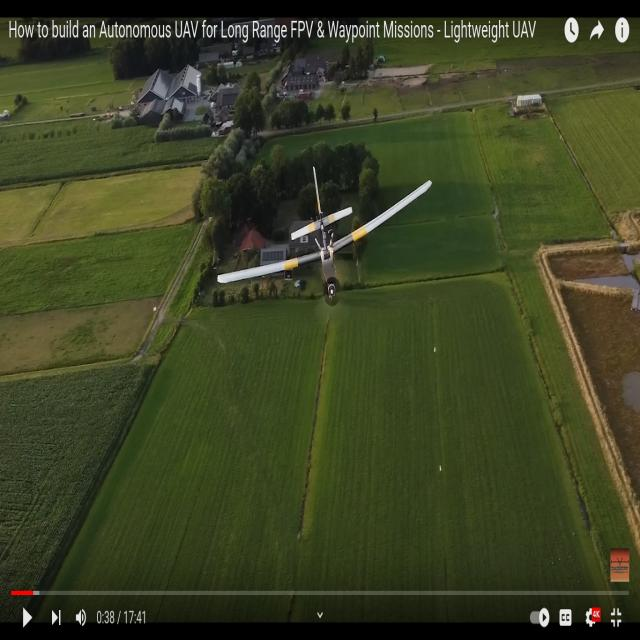drones: (212, 163, 438, 315)
